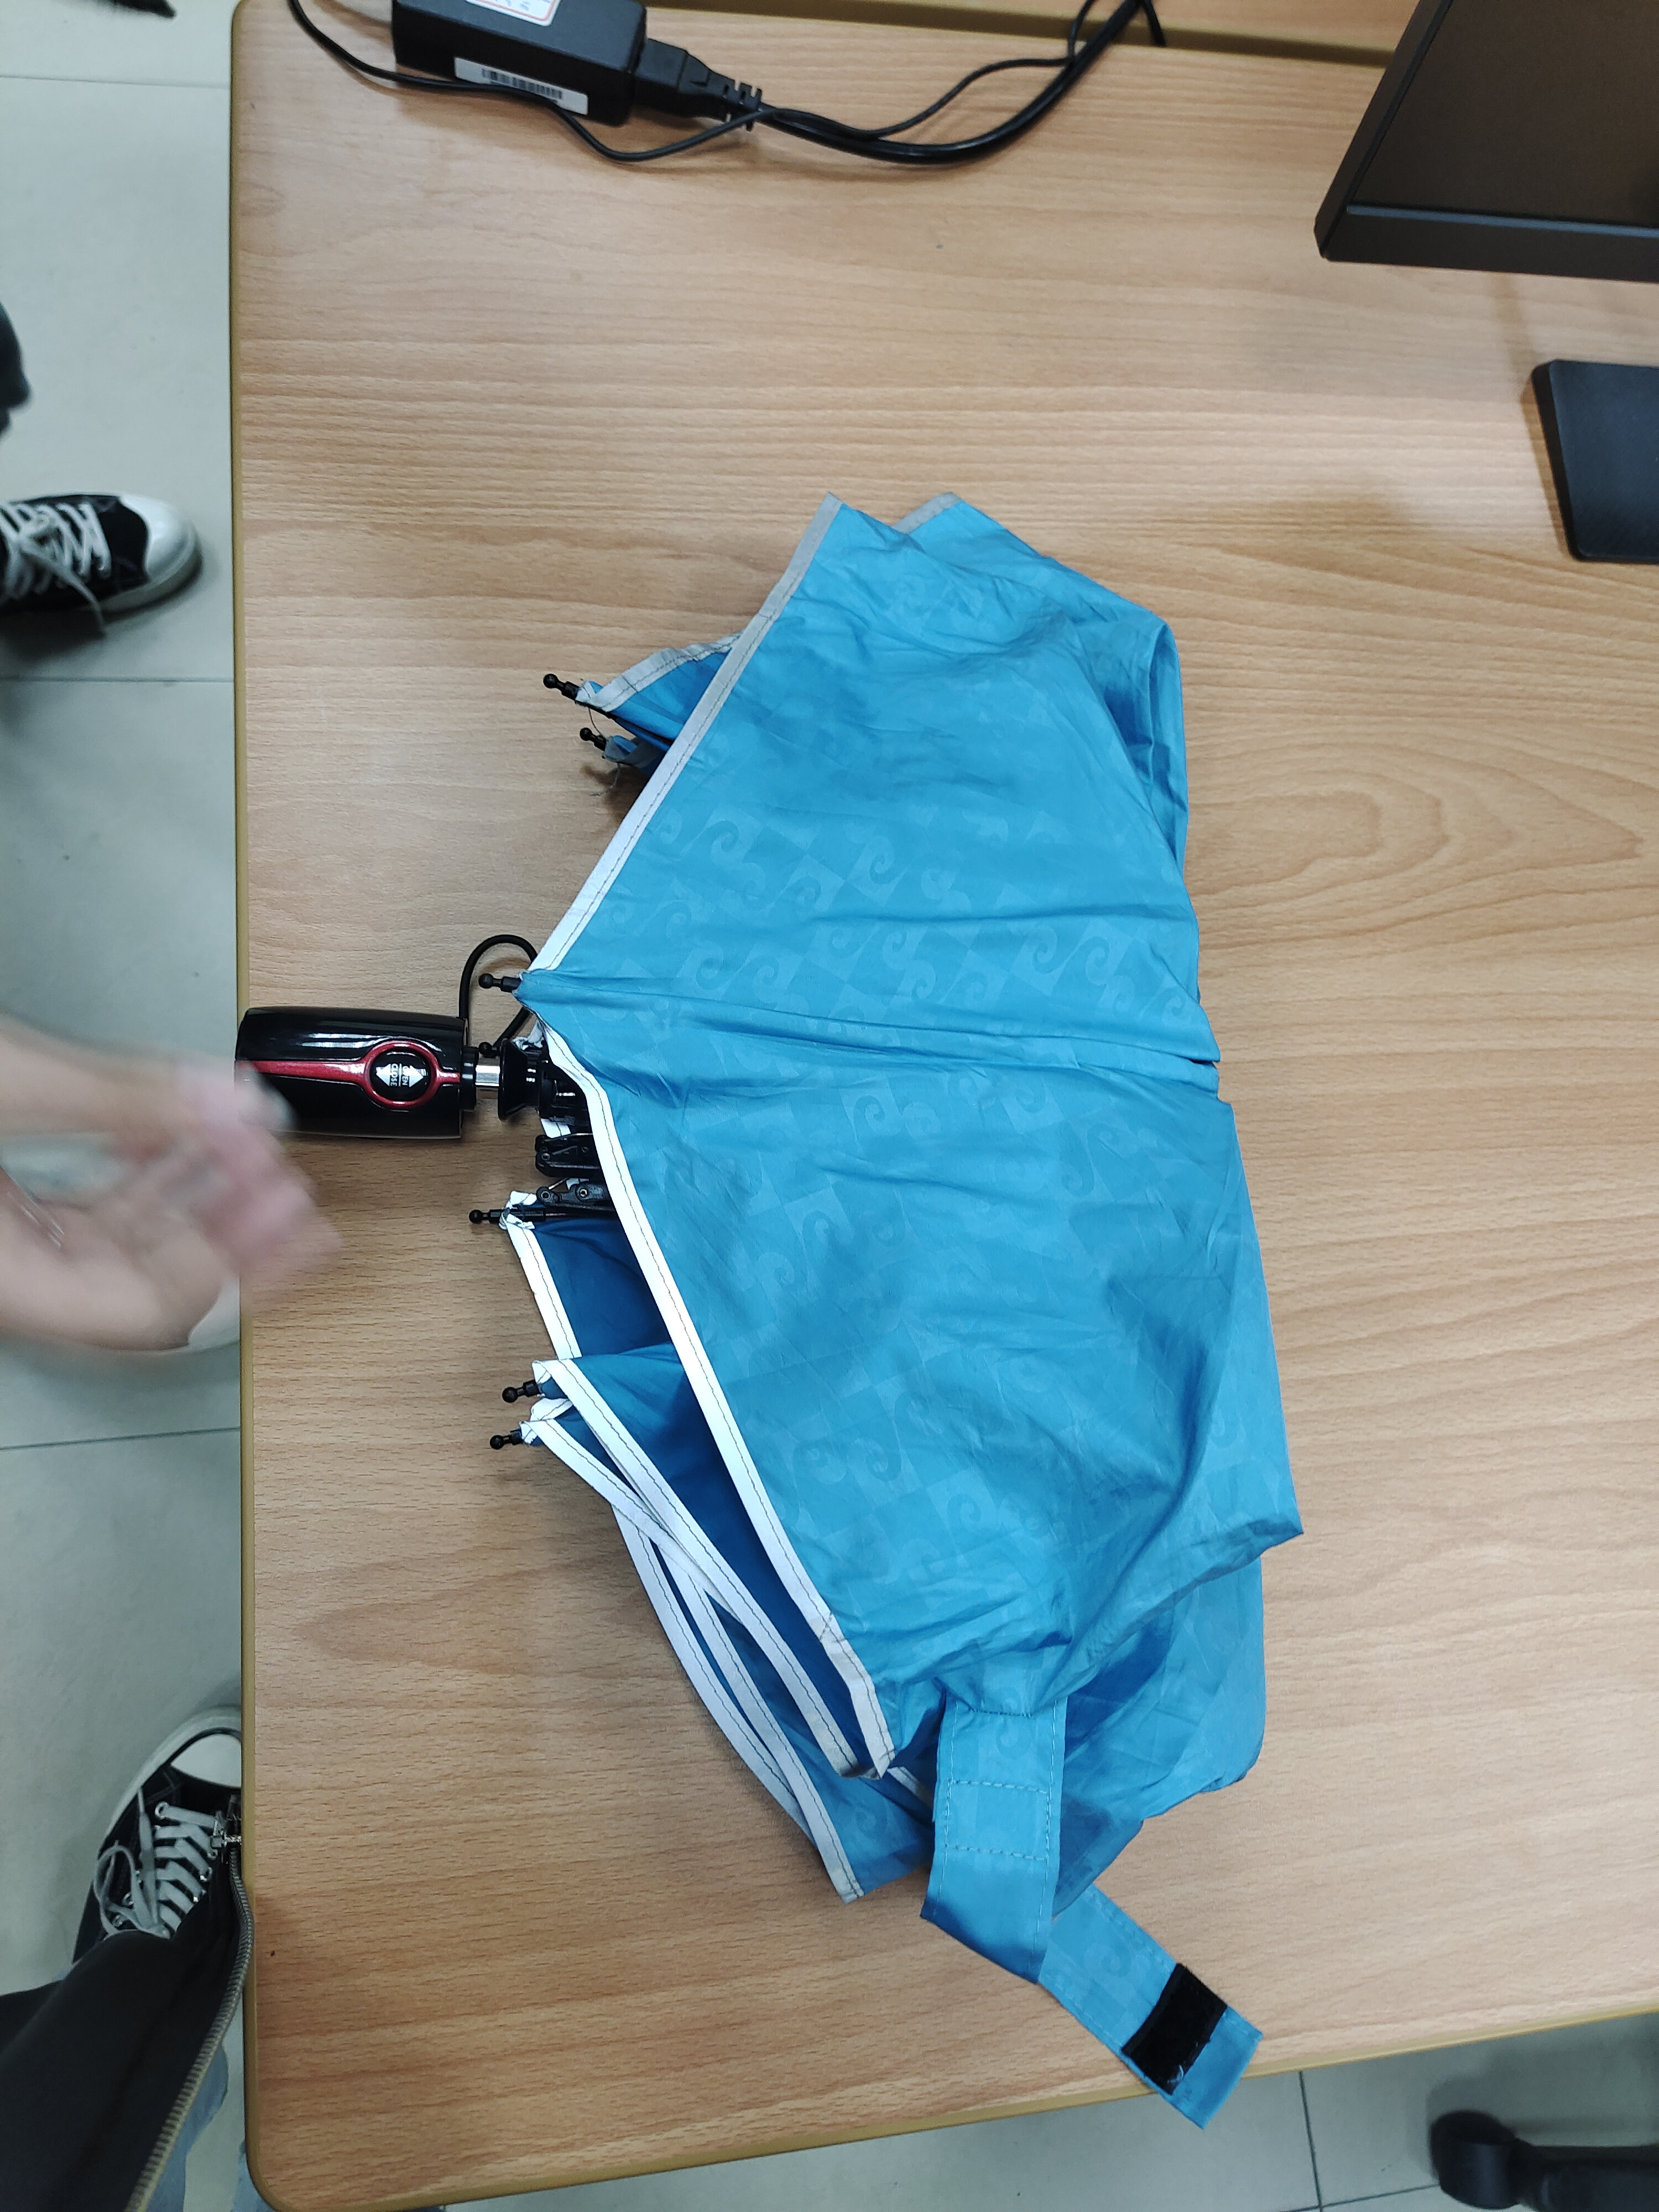umbrella: (247, 449, 1309, 2141)
